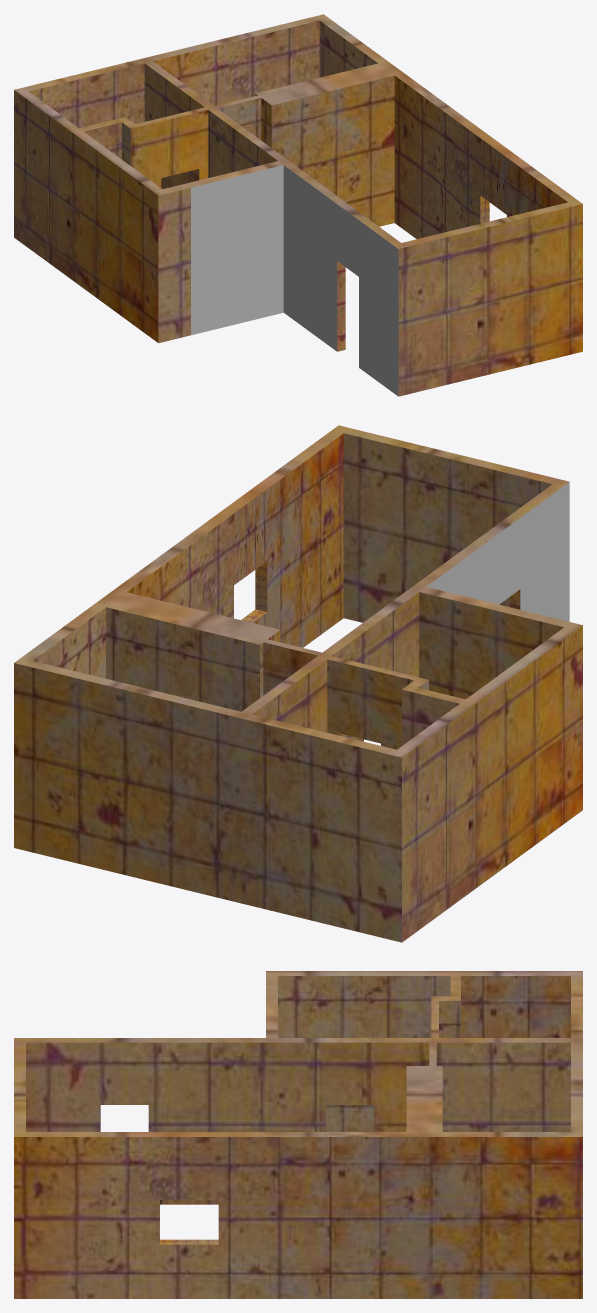
Rendered from apartment_grayblock.FBX.
The picture shows the model from 3 angles, top to bottom: view 1: azimuth 30°, elevation 25°; view 2: azimuth 150°, elevation 25°; view 3: azimuth 270°, elevation 25°; orthographic projection. The views are drawn at different scales.
Visible parts, largest first — view 1: walls; view 2: walls; view 3: walls.
Part boxes in pixels (x1=…): walls: x1=14, y1=14, x2=582, y2=396; walls: x1=14, y1=425, x2=582, y2=942; walls: x1=14, y1=971, x2=582, y2=1298.
Size of the model in its own units: 614 by 280 by 889.
